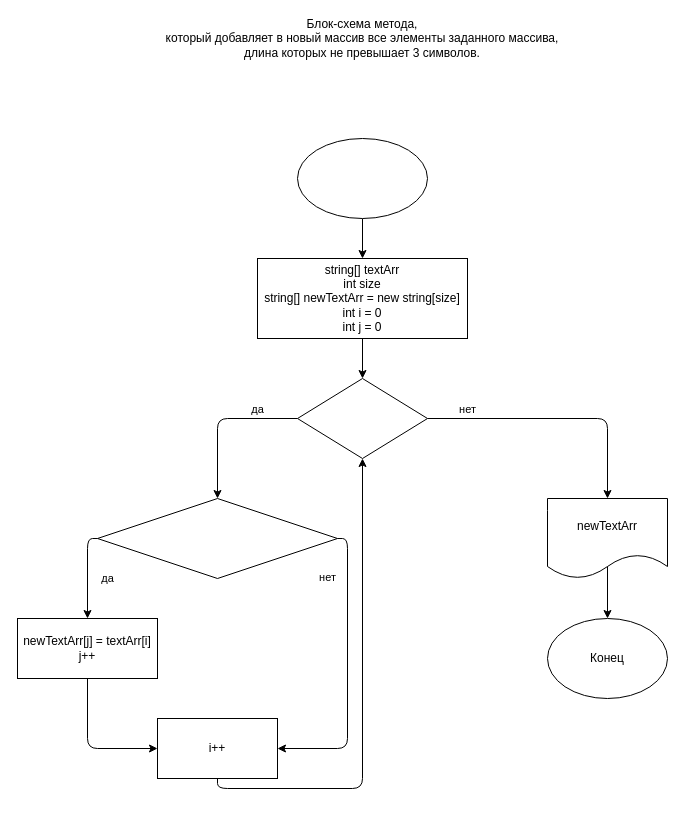
Some shapes in this 685 by 814 pixel diagram are drawn without their labels. Here are the shapes that lost their labels. From the top down, the centre of each, then its label:
the point at 362,178: Начало
the point at 362,418: i < textArr.Length
the point at 217,538: textArr[i].ToCharArray().Length <= 3
